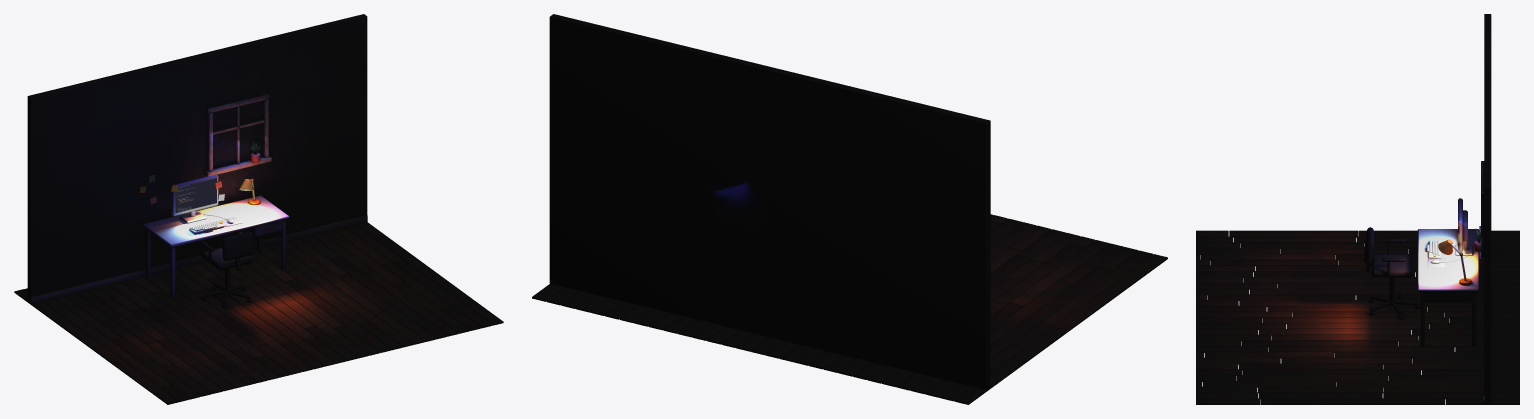
Rendered from desk_scene.glb.
The picture shows the model from 3 angles, left to right: view 1: azimuth 30°, elevation 25°; view 2: azimuth 150°, elevation 25°; view 3: azimuth 270°, elevation 25°; orthographic projection. The views are drawn at different scales.
Parts seen in each view (by area): view 1: baked_room, baked_floor, baked_desk, chair, monitor_screen; view 2: baked_room, baked_floor; view 3: baked_floor, baked_desk, baked_room, chair.
Boxes of the visible parts, bbox=[...] form: baked_room: bbox=[27, 14, 367, 303]; baked_floor: bbox=[14, 222, 503, 404]; baked_desk: bbox=[139, 174, 289, 297]; chair: bbox=[200, 231, 254, 308]; monitor_screen: bbox=[175, 178, 216, 212]; baked_room: bbox=[549, 14, 991, 389]; baked_floor: bbox=[532, 214, 1167, 404]; baked_floor: bbox=[1196, 230, 1519, 404]; baked_desk: bbox=[1417, 198, 1479, 345]; baked_room: bbox=[1474, 14, 1491, 403]; chair: bbox=[1364, 227, 1420, 319].
Size of the model in its own units: 4.8 by 2.82 by 3.79.
Materials: 5 (5 with a texture image).
